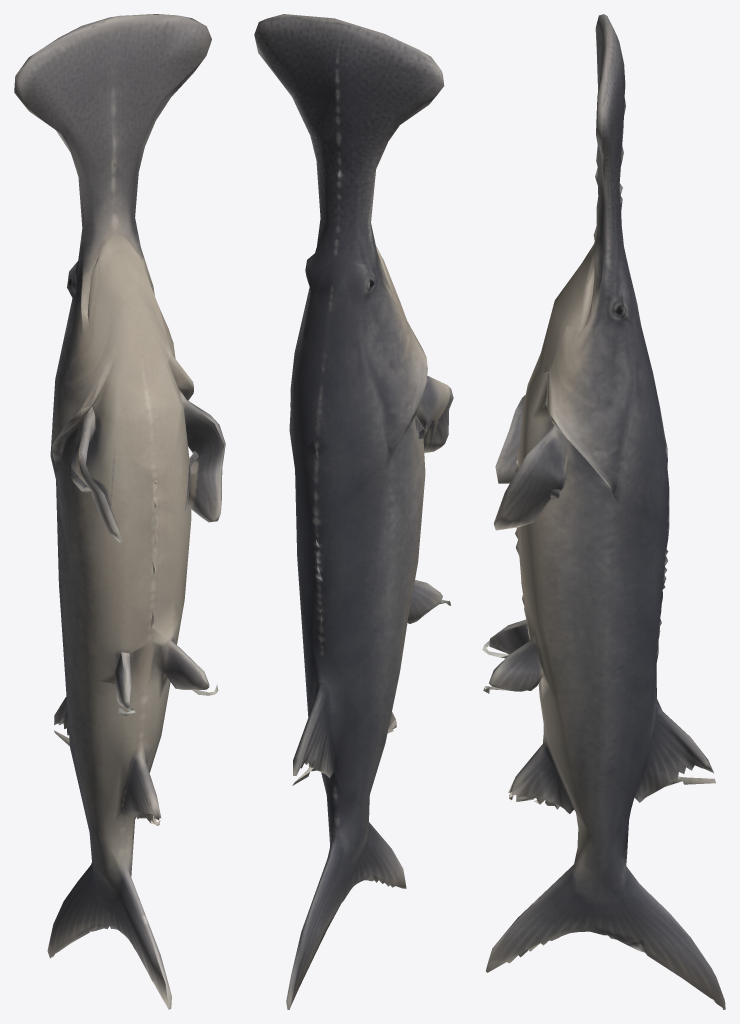
Rendered from paddlefish.glb.
3 renders of one model, left to right at view 1: azimuth 30°, elevation 25°; view 2: azimuth 150°, elevation 25°; view 3: azimuth 270°, elevation 25°, orthographic. The views are drawn at different scales.
Parts seen in each view (by area): view 1: FishPaddlefish; view 2: FishPaddlefish; view 3: FishPaddlefish.
Part boxes in pixels (x1,y1,x2,y2): FishPaddlefish: (14,14,225,1009); FishPaddlefish: (254,14,453,1009); FishPaddlefish: (482,14,725,1009).
Bounding box in the file's own units: 0.482 × 2.3 × 0.521.
1 material, 1 textured.
